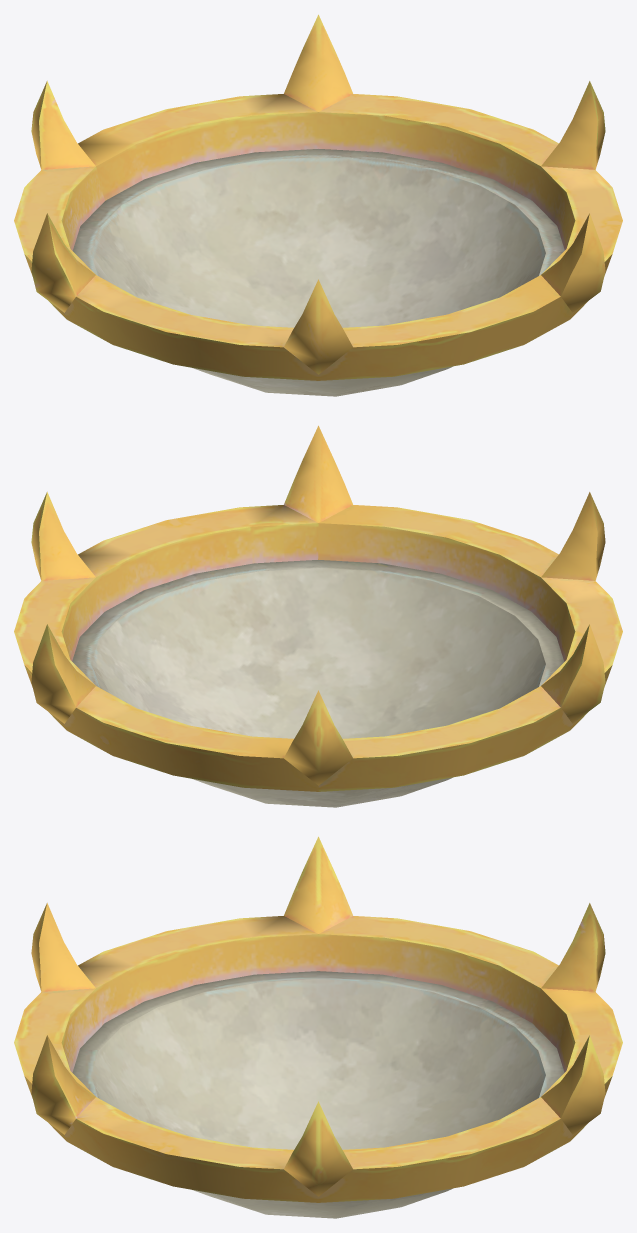
Rendered from Story_0-8_kaipian_bonfire01_02.fbx.
3 renders of one model, top to bottom at view 1: azimuth 30°, elevation 25°; view 2: azimuth 150°, elevation 25°; view 3: azimuth 270°, elevation 25°, orthographic.
Visible parts, largest first — view 1: Story_0_8_kaipian_bonfire01_02; view 2: Story_0_8_kaipian_bonfire01_02; view 3: Story_0_8_kaipian_bonfire01_02.
Boxes of the visible parts, left/top/right/bottom form: Story_0_8_kaipian_bonfire01_02: left=14, top=14, right=622, bottom=396; Story_0_8_kaipian_bonfire01_02: left=14, top=425, right=622, bottom=807; Story_0_8_kaipian_bonfire01_02: left=14, top=836, right=622, bottom=1218.
Bounding box in the file's own units: 74.13 × 27.55 × 68.1.
